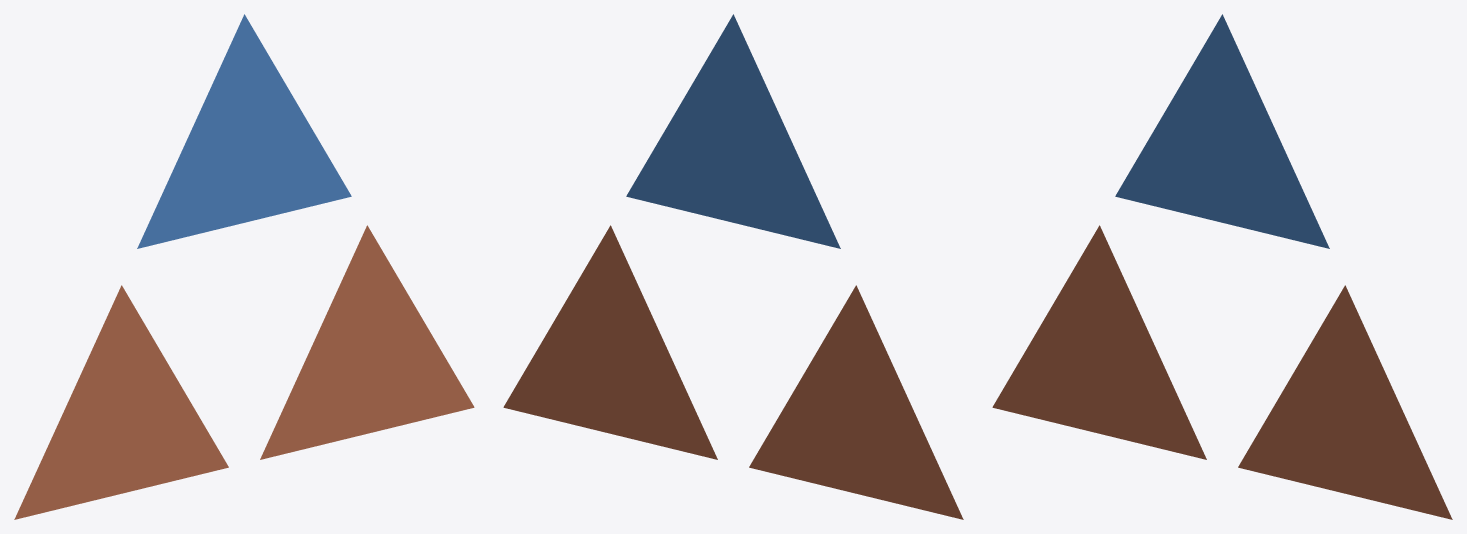
Rendered from viewer-multislot.gltf.
The picture shows the model from 3 angles, left to right: view 1: azimuth 30°, elevation 25°; view 2: azimuth 150°, elevation 25°; view 3: azimuth 330°, elevation 25°; orthographic projection.
Size of the model in its own units: 3 by 2.8 by 0.
